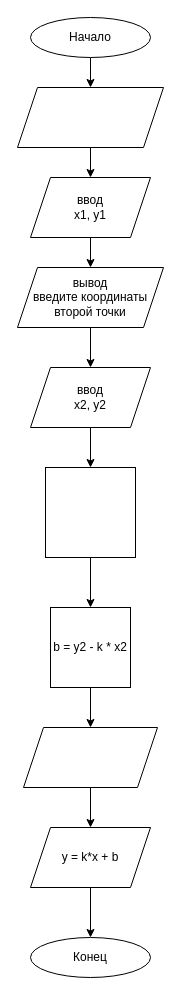
Some shapes in this 181 by 995 pixel diagram are drawn without their labels. The centre of each missing label's shape, as x and y in pixels:
k = (y1 - y2) / (x1 - x2): (90,512)
вывод введите координаты первой точки: (90,117)
вывод уравнение прямой: (90,757)
